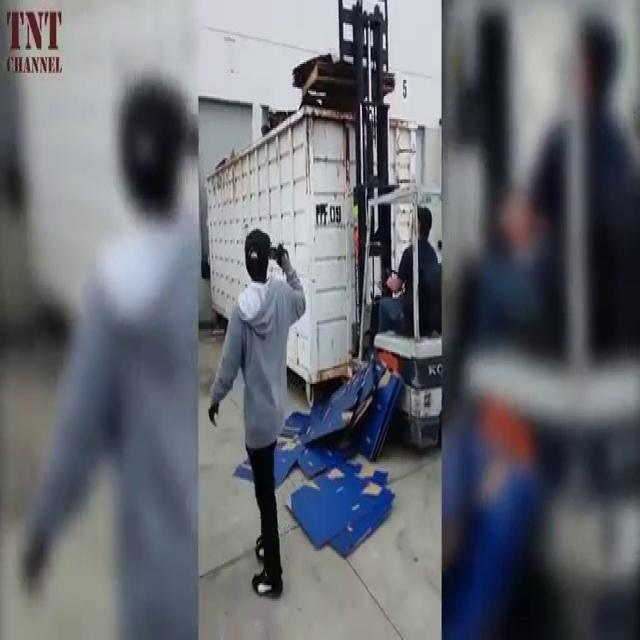Chariot elevateur: (355, 170, 443, 458)
